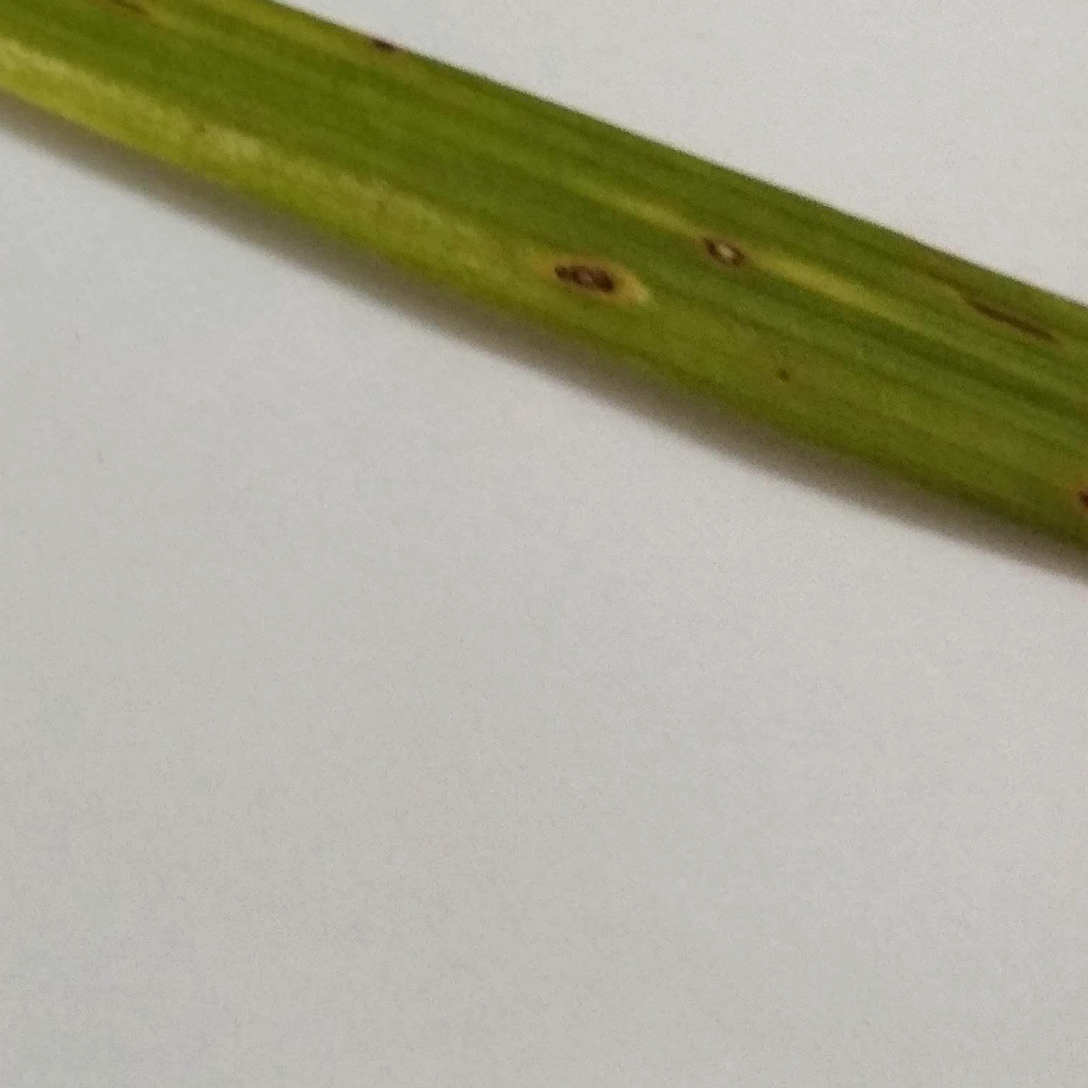Brown_Spot: (525, 240, 661, 304), (692, 219, 775, 265)
